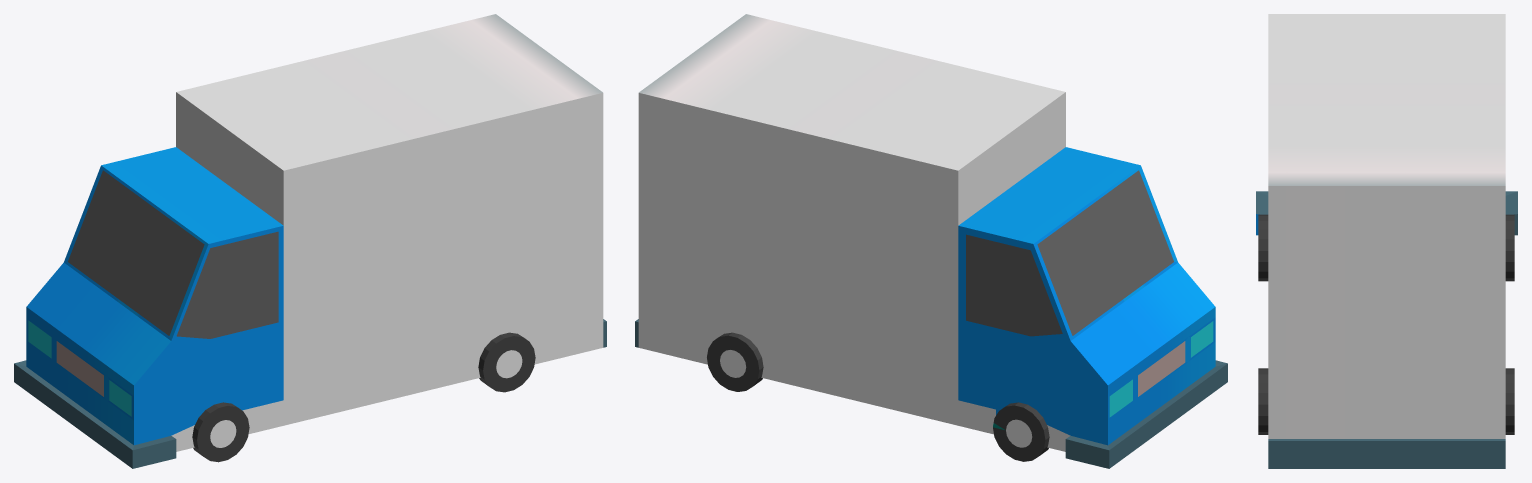
The model's file is car_08_1_world_ap.15_0_lev1.glb.
3 views of the same model, side by side, from view 1: azimuth 30°, elevation 25°; view 2: azimuth 150°, elevation 25°; view 3: azimuth 270°, elevation 25° (orthographic). The views are drawn at different scales.
Parts seen in each view (by area): view 1: car_08_1_world_ap.15_0_lev1; view 2: car_08_1_world_ap.15_0_lev1; view 3: car_08_1_world_ap.15_0_lev1.
Part boxes in pixels (bbox=[...]): car_08_1_world_ap.15_0_lev1: bbox=[14, 14, 606, 468]; car_08_1_world_ap.15_0_lev1: bbox=[635, 14, 1227, 468]; car_08_1_world_ap.15_0_lev1: bbox=[1256, 14, 1517, 468].
Bounding box in the file's own units: 1.85 × 0.9995 × 0.7933.
1 material, 1 textured.
